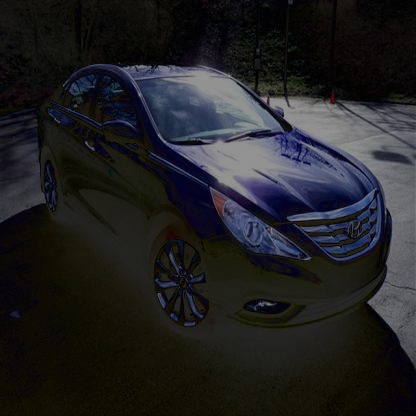Vehicle: (36, 64, 394, 341)
